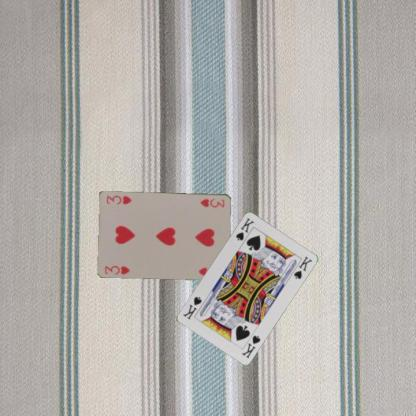3h: (102, 263, 131, 275), (198, 196, 225, 208)
Ks: (239, 332, 262, 360), (233, 215, 255, 241)
